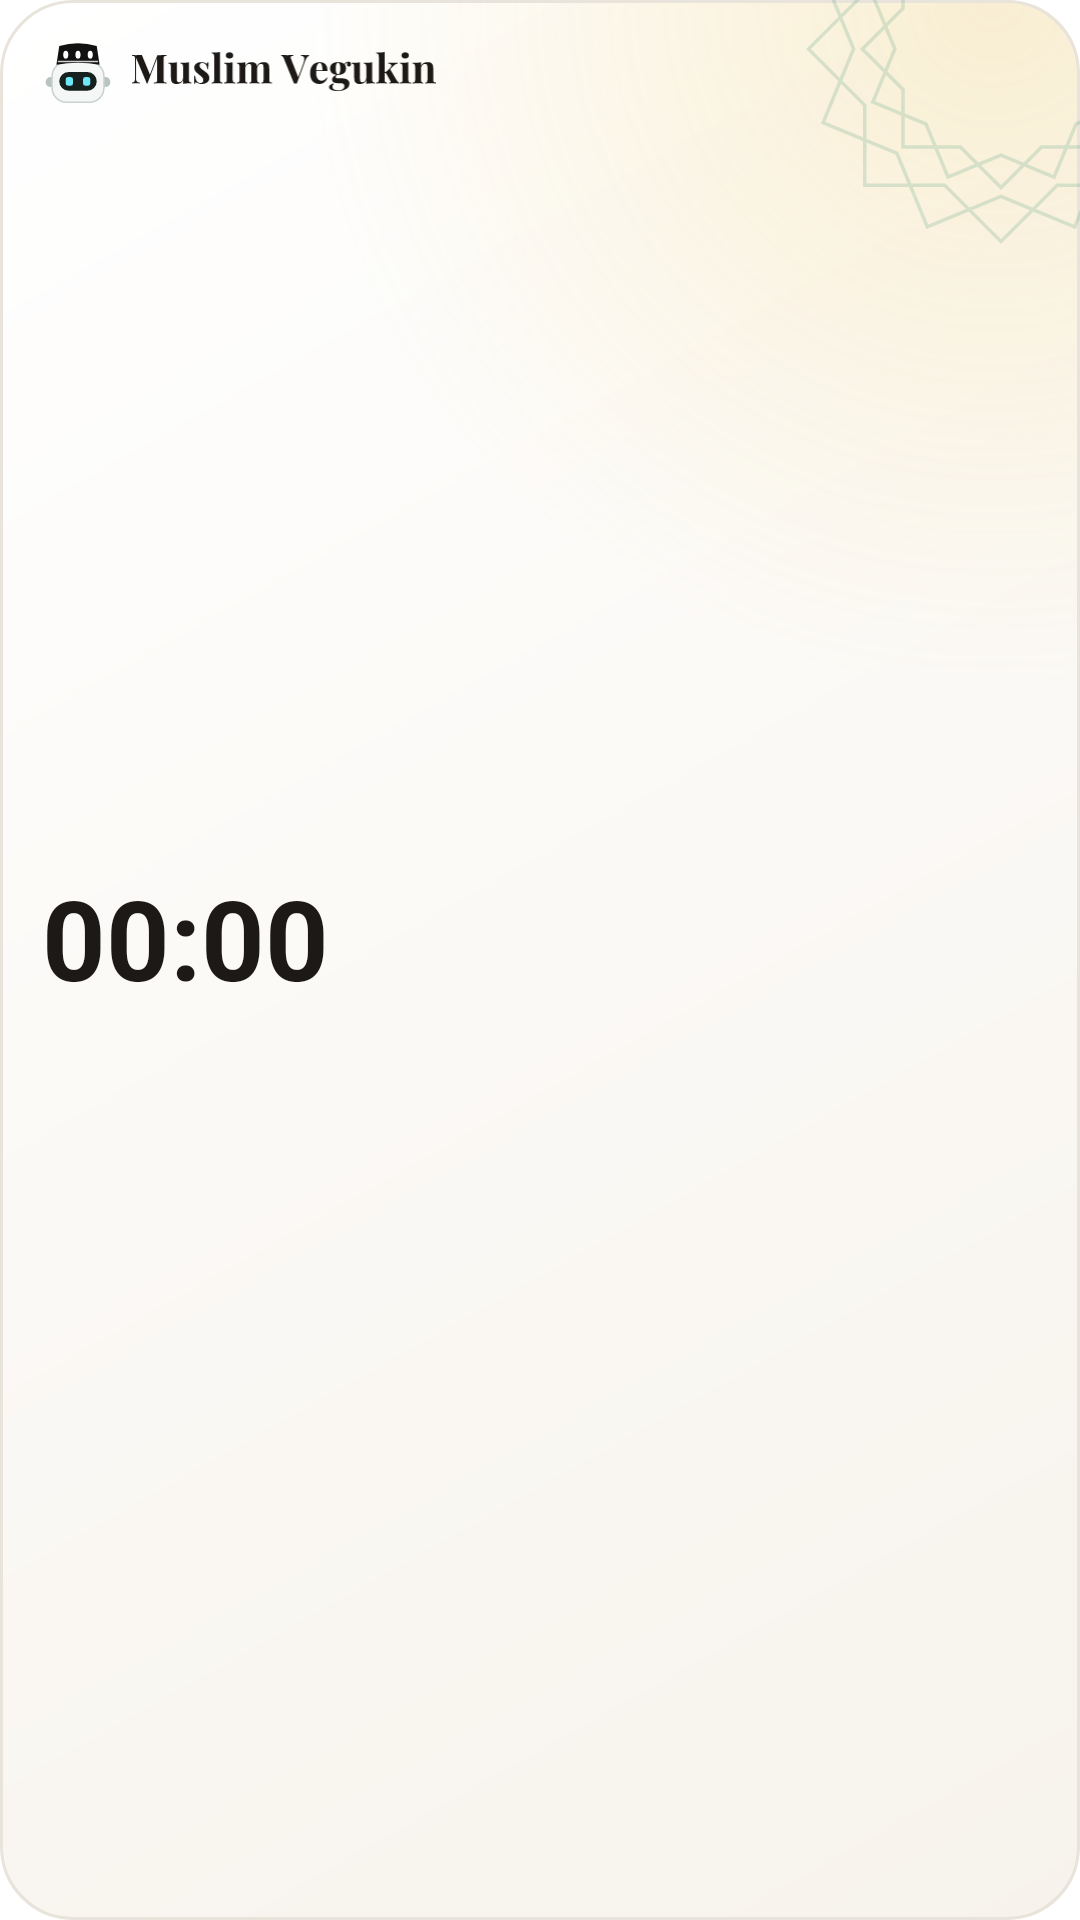

Screen size 1080px x 1920px. Icon name, then its center in pixels as point (x, y):
widget bot: point (78, 73)
